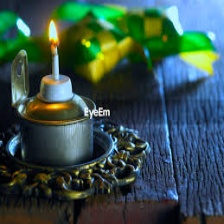fire: (48, 16, 61, 45)
